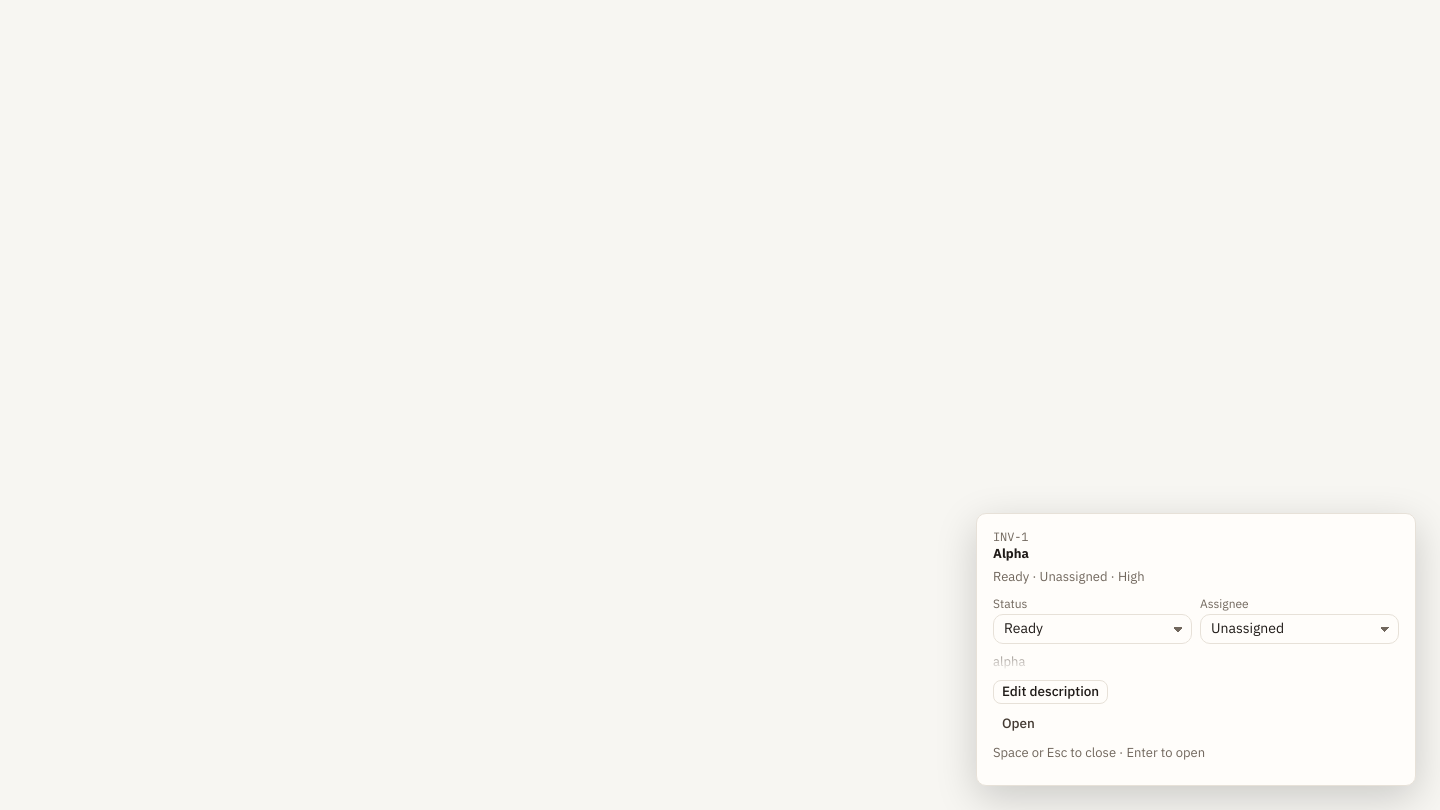
IssuePeek › cancel puts the saved text back
Click the button "Edit description" at (1051, 692), box [993,680,1108,704]
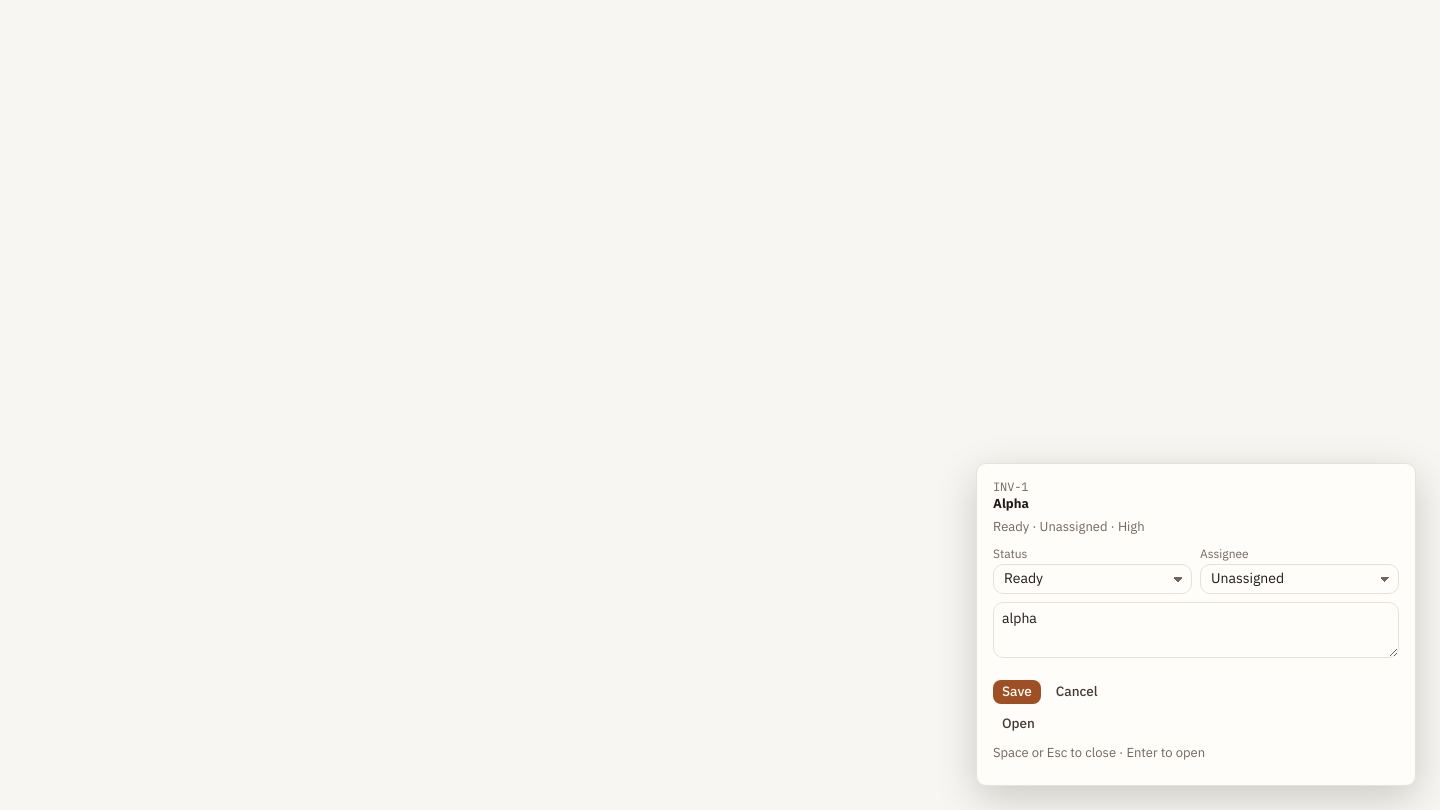
Replace the text in the text box named "Description" with "gone" at (1196, 630), box [993,602,1399,658]
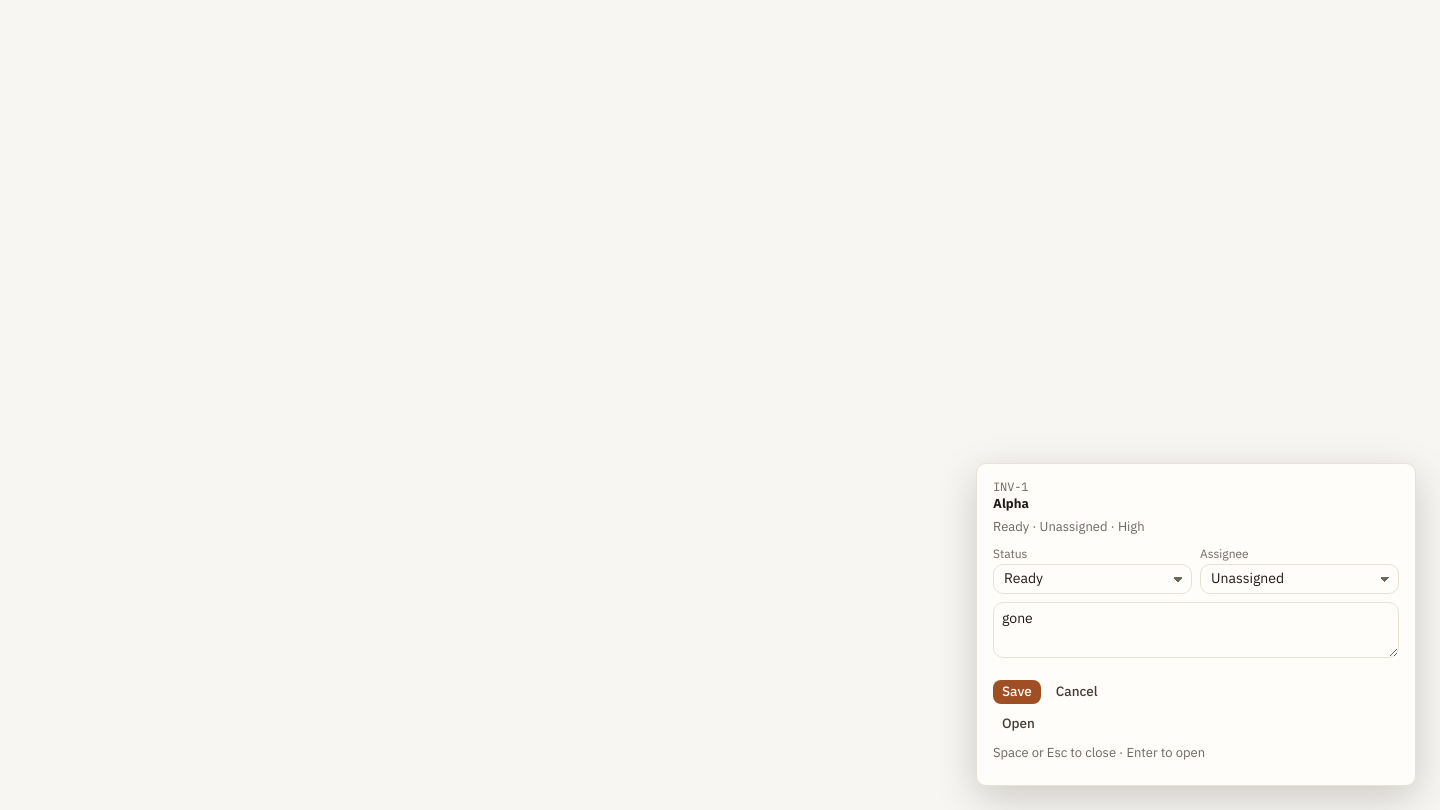
Click the button "Cancel" at (1077, 692), box [1047,680,1107,704]
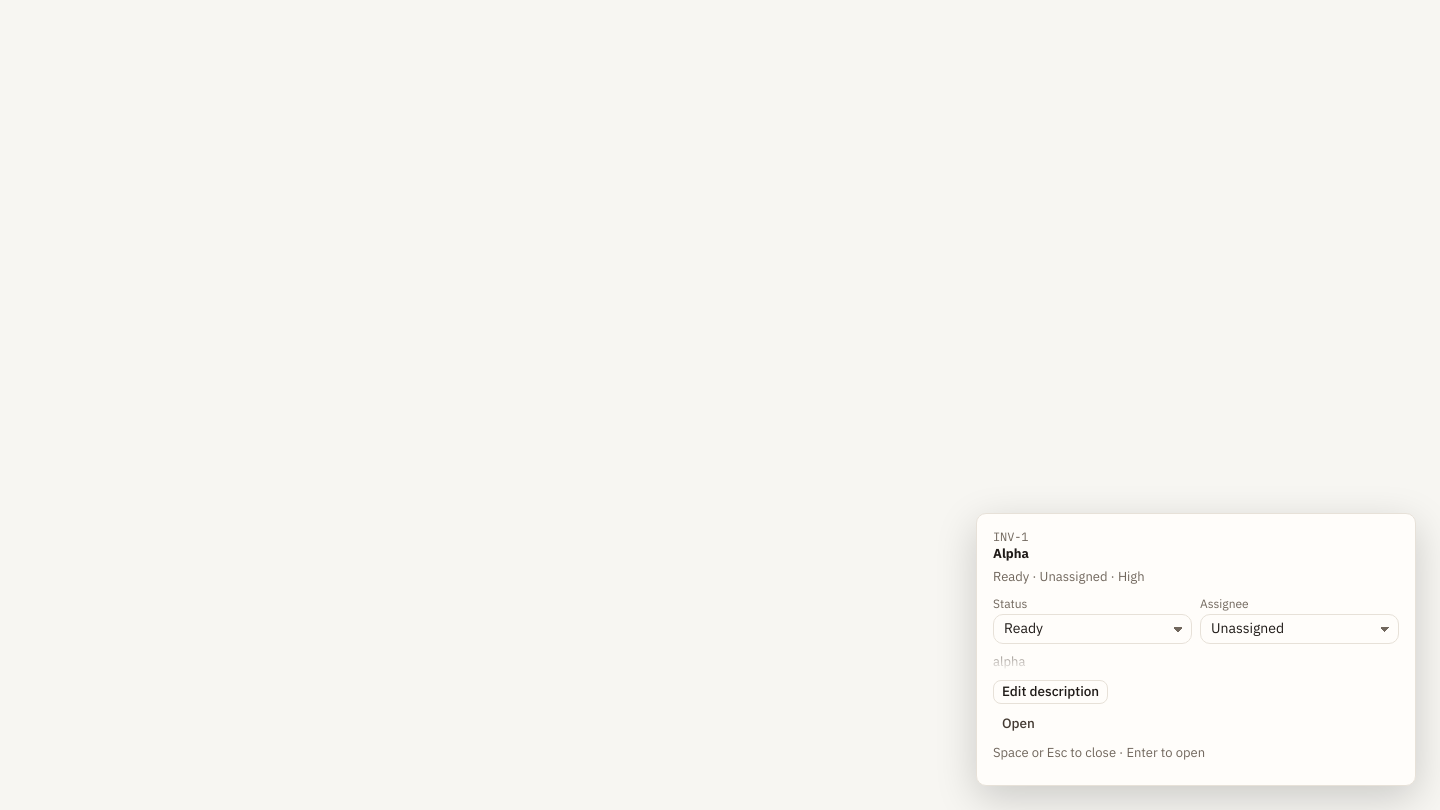
Result: the text "alpha" is shown at [993,653,1025,670]
